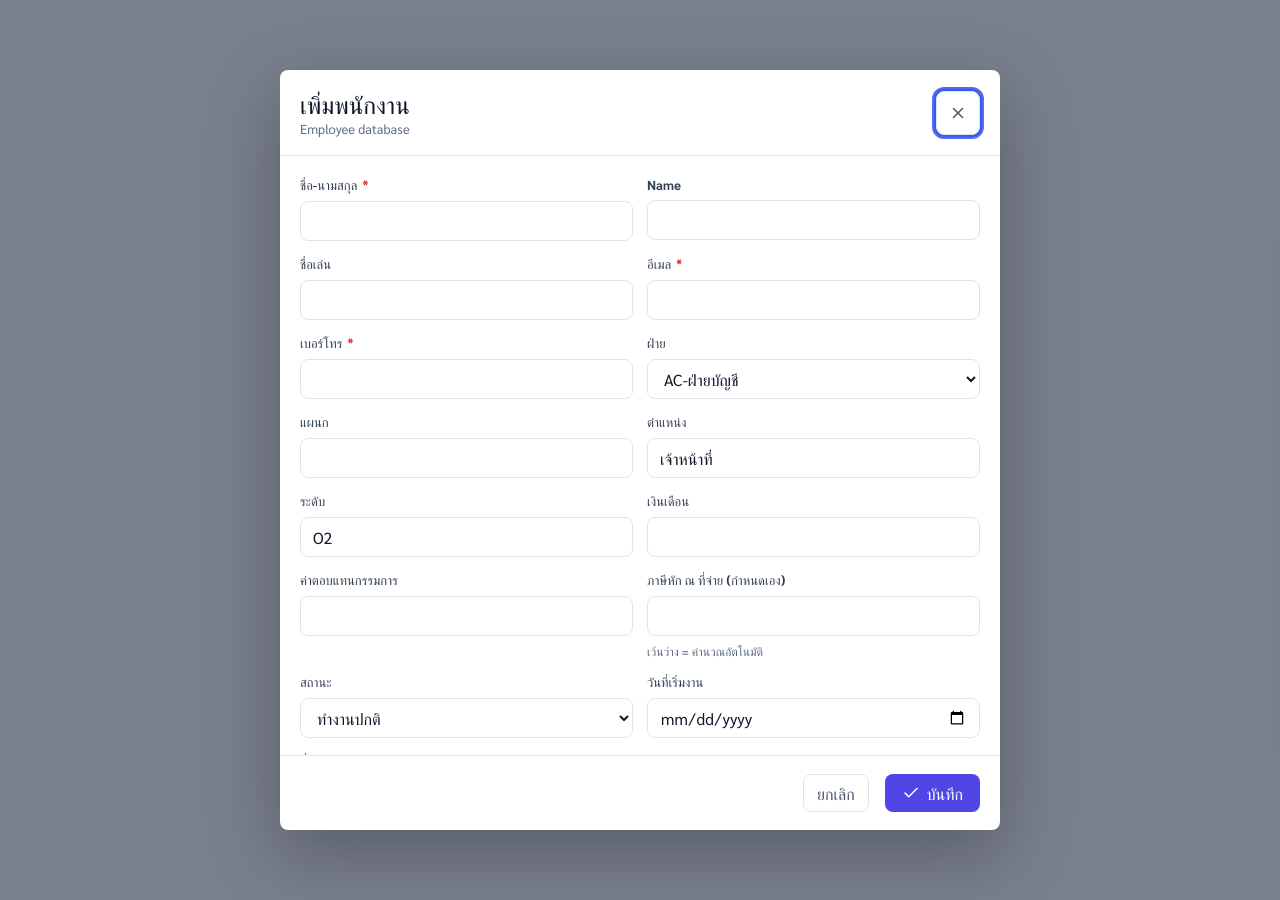
EmployeeFormModal form validation › blocks submit when required fields are empty
What coordinates should you click on to do the following:
click the button "บันทึก"
I would click on:
 (932, 793)
Its box is [885,774,980,812].
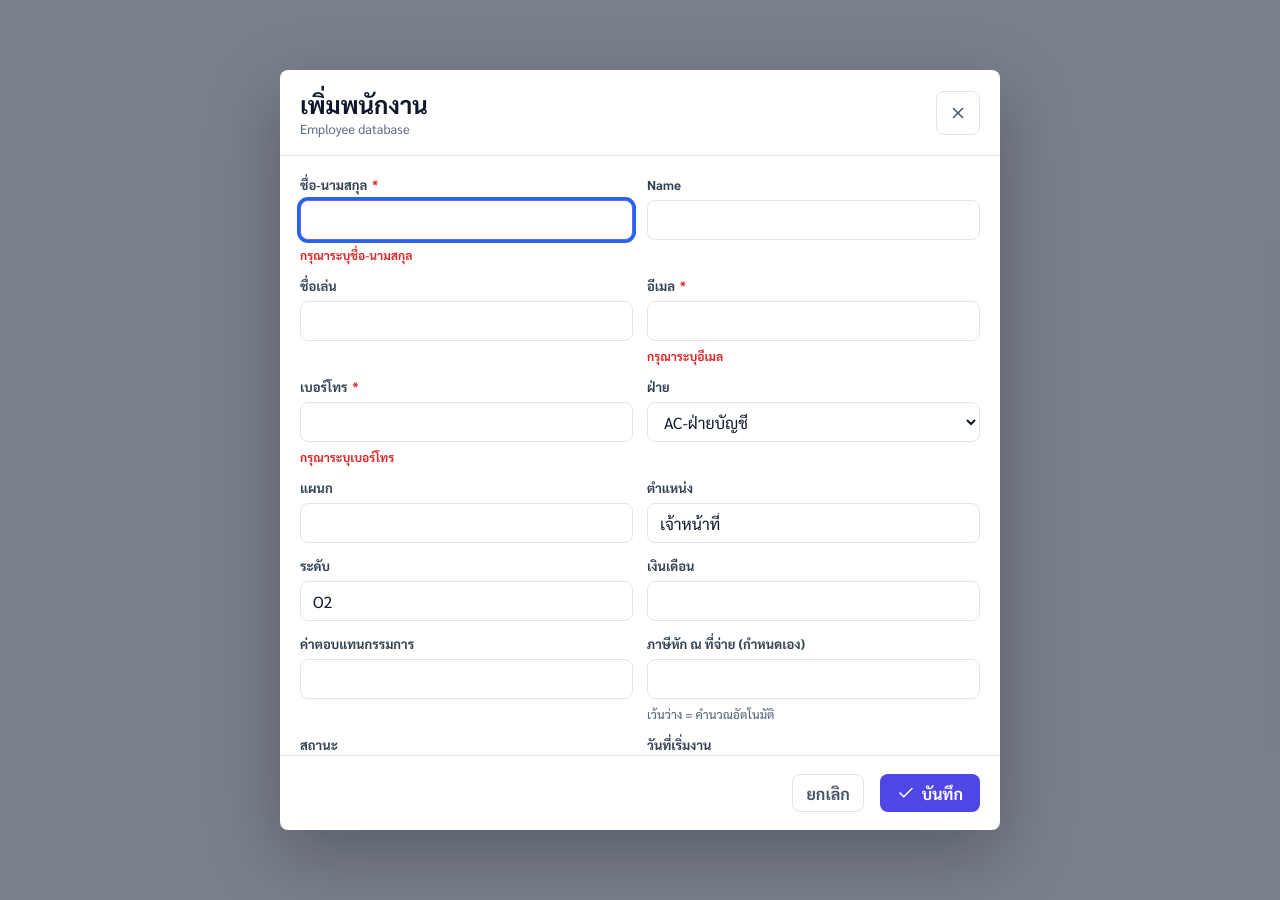
Now the text "กรุณาระบุชื่อ-นามสกุล" is shown, box [300,247,412,263]
Now the text "กรุณาระบุอีเมล" is shown, box [647,348,723,364]
Now the text "กรุณาระบุเบอร์โทร" is shown, box [300,449,394,465]
